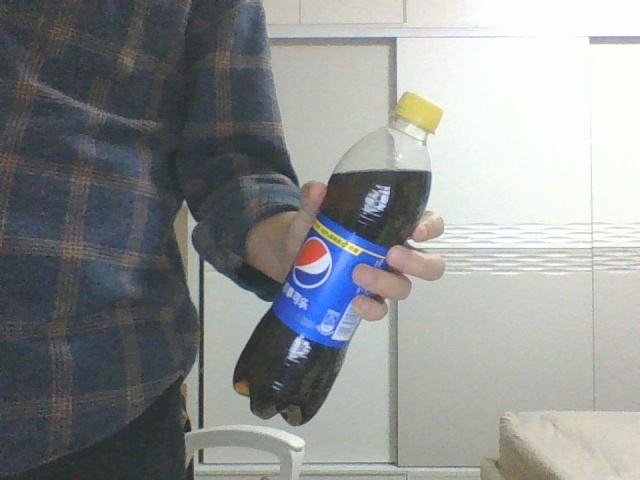Cola: (233, 92, 443, 425)
